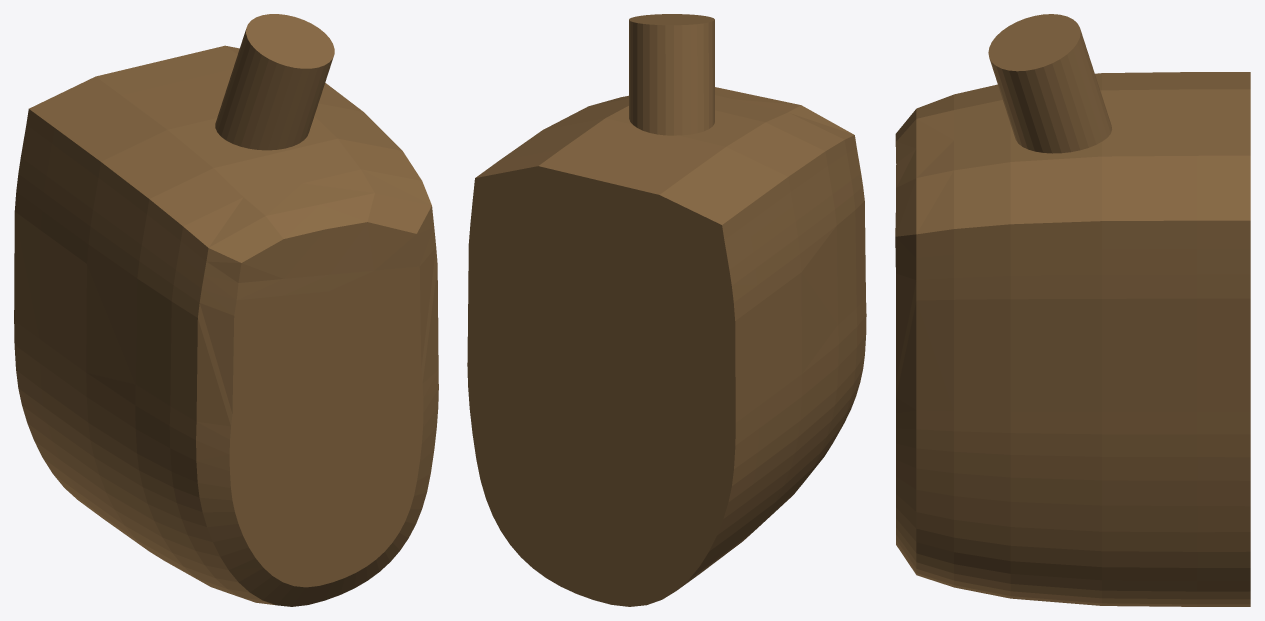
The model's file is LAy_joint_visu.dae.
3 renders of one model, left to right at view 1: azimuth 30°, elevation 25°; view 2: azimuth 150°, elevation 25°; view 3: azimuth 270°, elevation 25°, orthographic. The views are drawn at different scales.
Visible parts, largest first — view 1: node; view 2: node; view 3: node.
Boxes of the visible parts, box(x1,y1,x2,y2) form: node: box(14, 14, 438, 606); node: box(467, 14, 866, 606); node: box(895, 14, 1250, 606).
Bounding box in the file's own units: 0.0378 × 0.0695 × 0.039.
